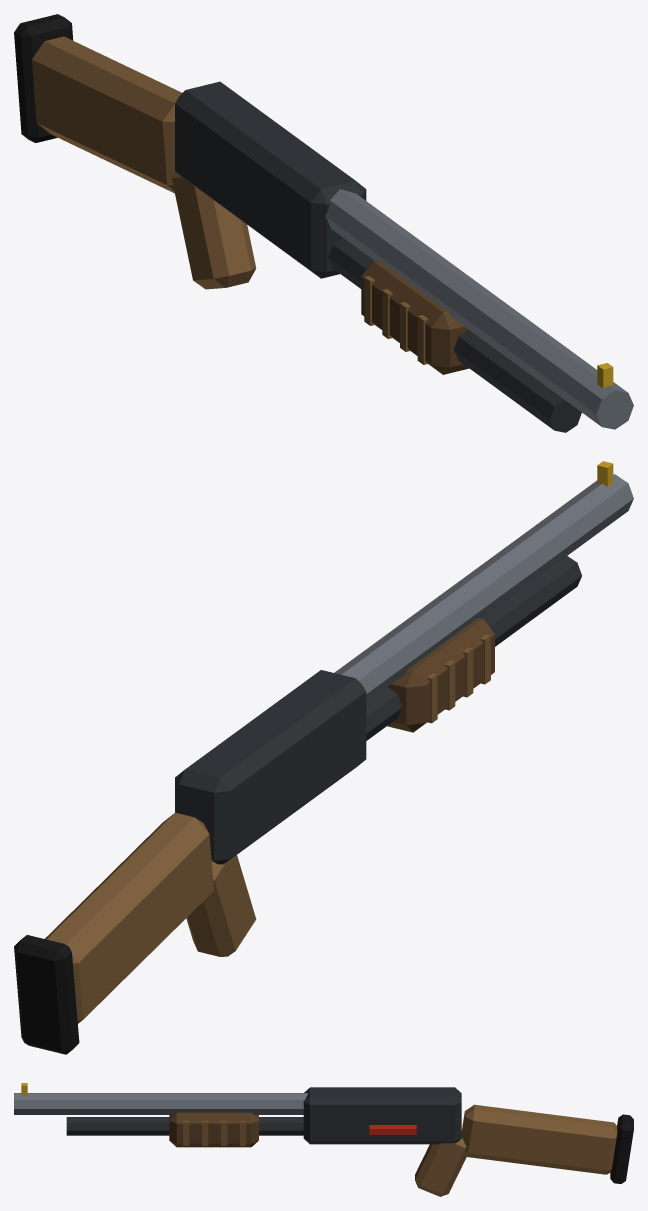
The model's file is shotgun.glb.
3 views of the same model, one above another, from view 1: azimuth 30°, elevation 25°; view 2: azimuth 150°, elevation 25°; view 3: azimuth 270°, elevation 25° (orthographic). The views are drawn at different scales.
Parts seen in each view (by area): view 1: wpn_shotgun; view 2: wpn_shotgun; view 3: wpn_shotgun.
Part boxes in pixels (x1,y1,x2,y2): wpn_shotgun: [14, 14, 633, 432]; wpn_shotgun: [14, 461, 633, 1054]; wpn_shotgun: [14, 1083, 633, 1196].
Size of the model in its own units: 0.0724 by 0.1838 by 0.942.
Materials: 1 (1 with a texture image).
